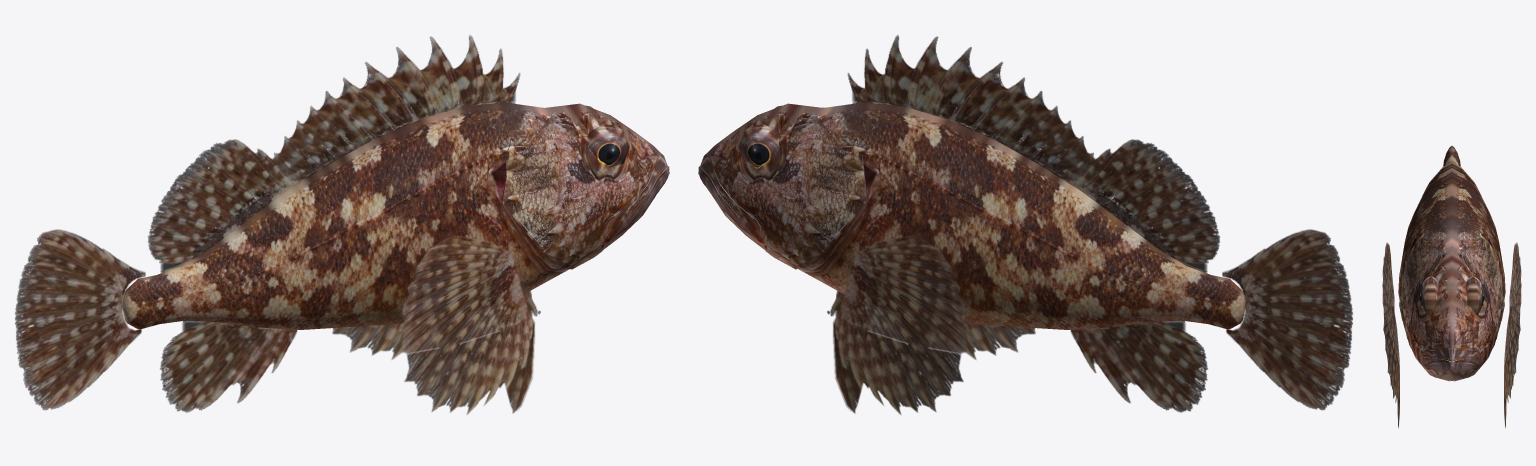
Rendered from kasago_lo.glb.
3 views of the same model, side by side, from view 1: azimuth 30°, elevation 25°; view 2: azimuth 150°, elevation 25°; view 3: azimuth 270°, elevation 25° (orthographic). The views are drawn at different scales.
Visible parts, largest first — view 1: kasago; view 2: kasago; view 3: kasago.
Part boxes in pixels (left/top/right/bottom): kasago: left=15, top=35, right=669, bottom=414; kasago: left=698, top=35, right=1352, bottom=414; kasago: left=1382, top=146, right=1521, bottom=428.
Size of the model in its own units: 0.2206 by 0.1176 by 0.0517.
1 material, 1 textured.
